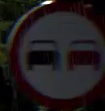No overtake: (8, 1, 104, 101)
